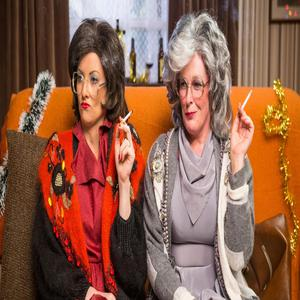cigarette: (237, 90, 254, 116), (121, 109, 134, 126)
